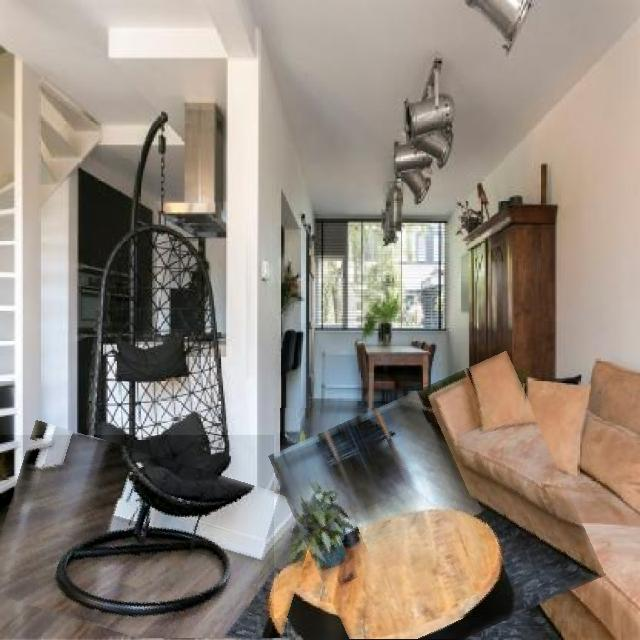floor: (275, 408, 605, 618), (0, 436, 287, 639)
